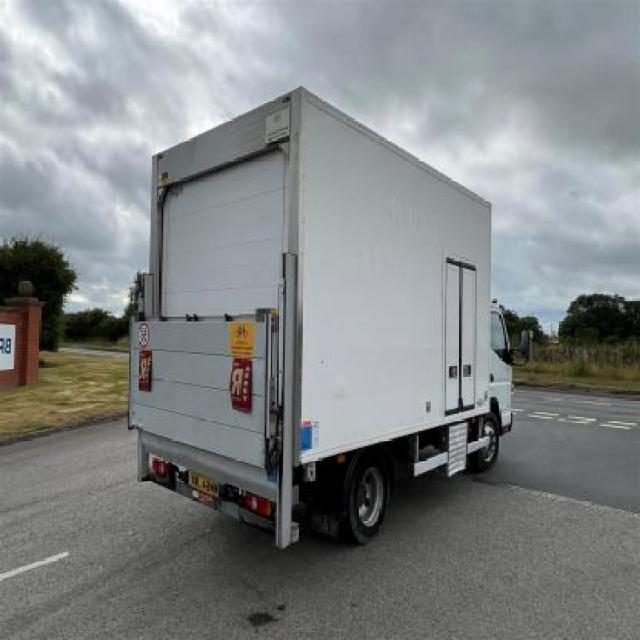truck: (130, 86, 536, 552)
